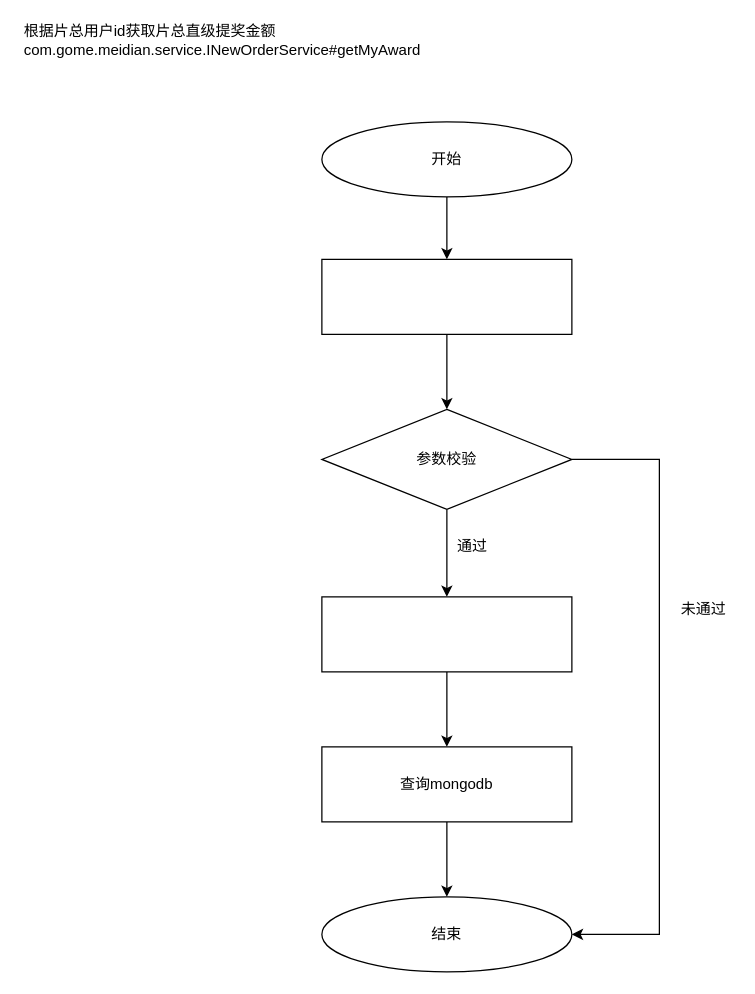
Some shapes in this 755 by 994 pixel diagram are drawn without their labels. Each missing label, with the box of its shape:
AOP日志: (321, 258, 572, 334)
参数组装: (321, 596, 572, 672)
